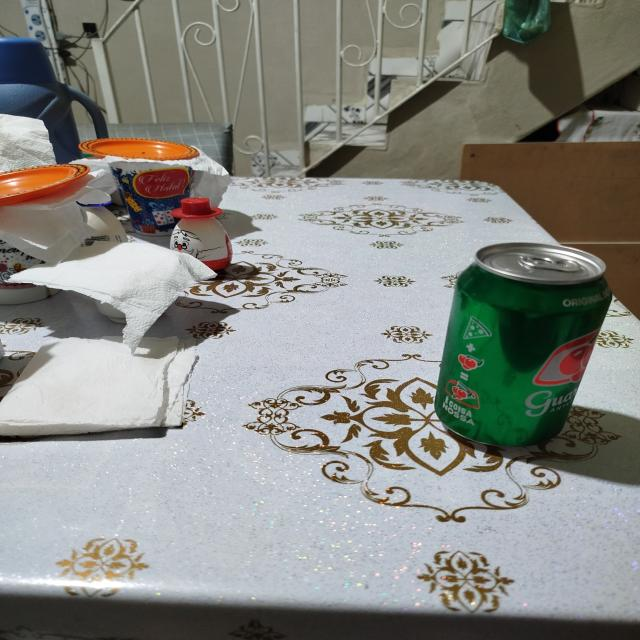Guarana: (432, 251, 606, 441)
